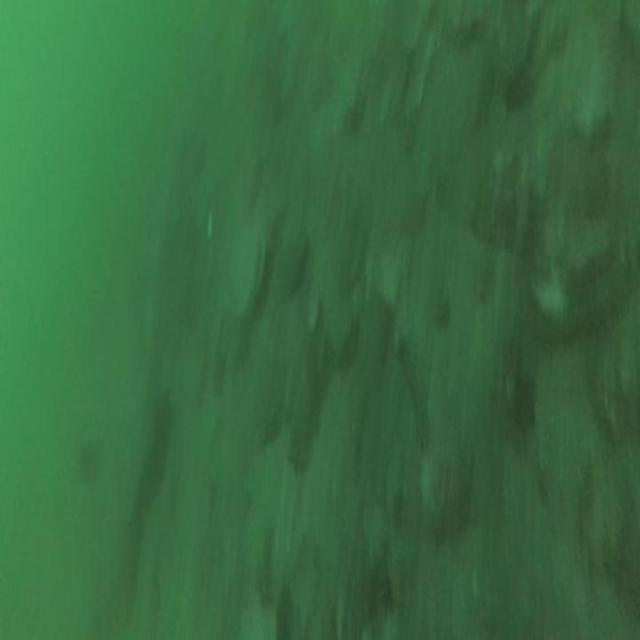scallop: (228, 224, 265, 321)
